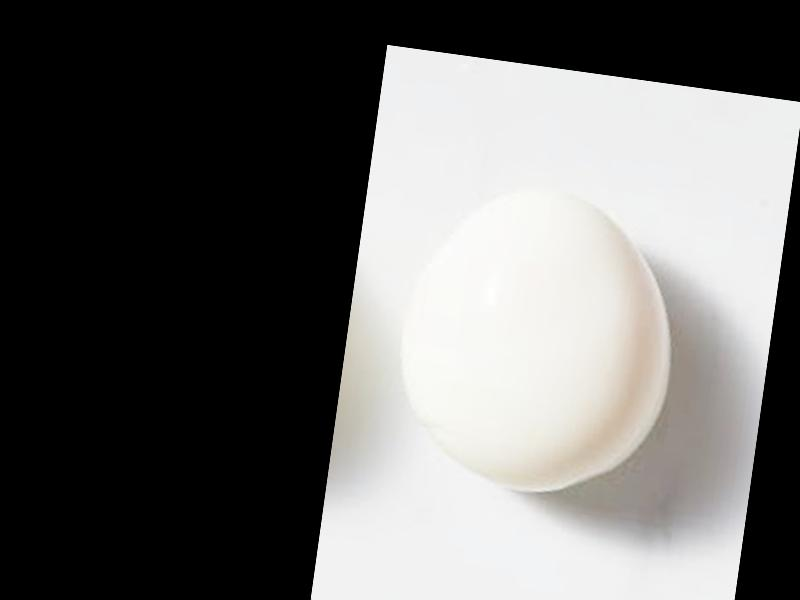Eggs: (384, 175, 691, 509)
